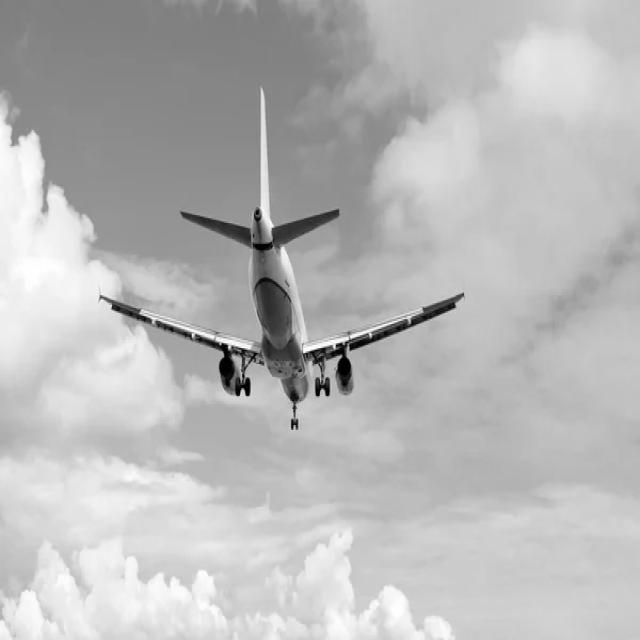Aircraft: (86, 84, 464, 426)
